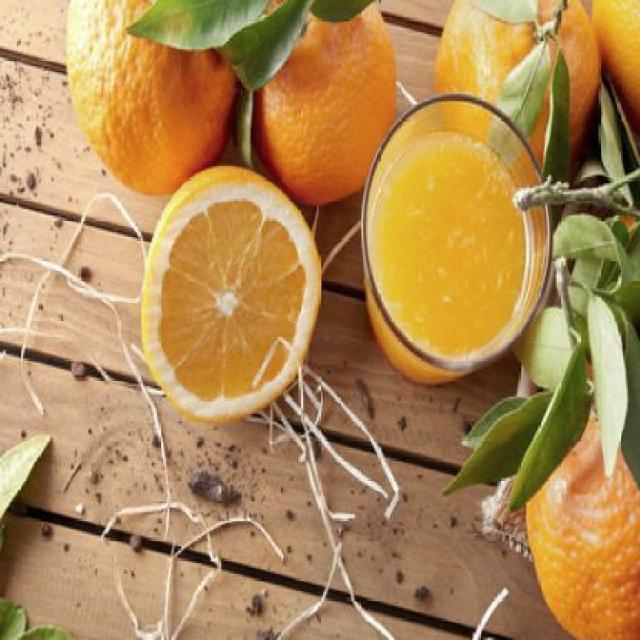Jeruk Sudah Matang: (67, 0, 241, 192), (432, 0, 599, 192), (238, 0, 394, 197), (530, 370, 638, 638)
